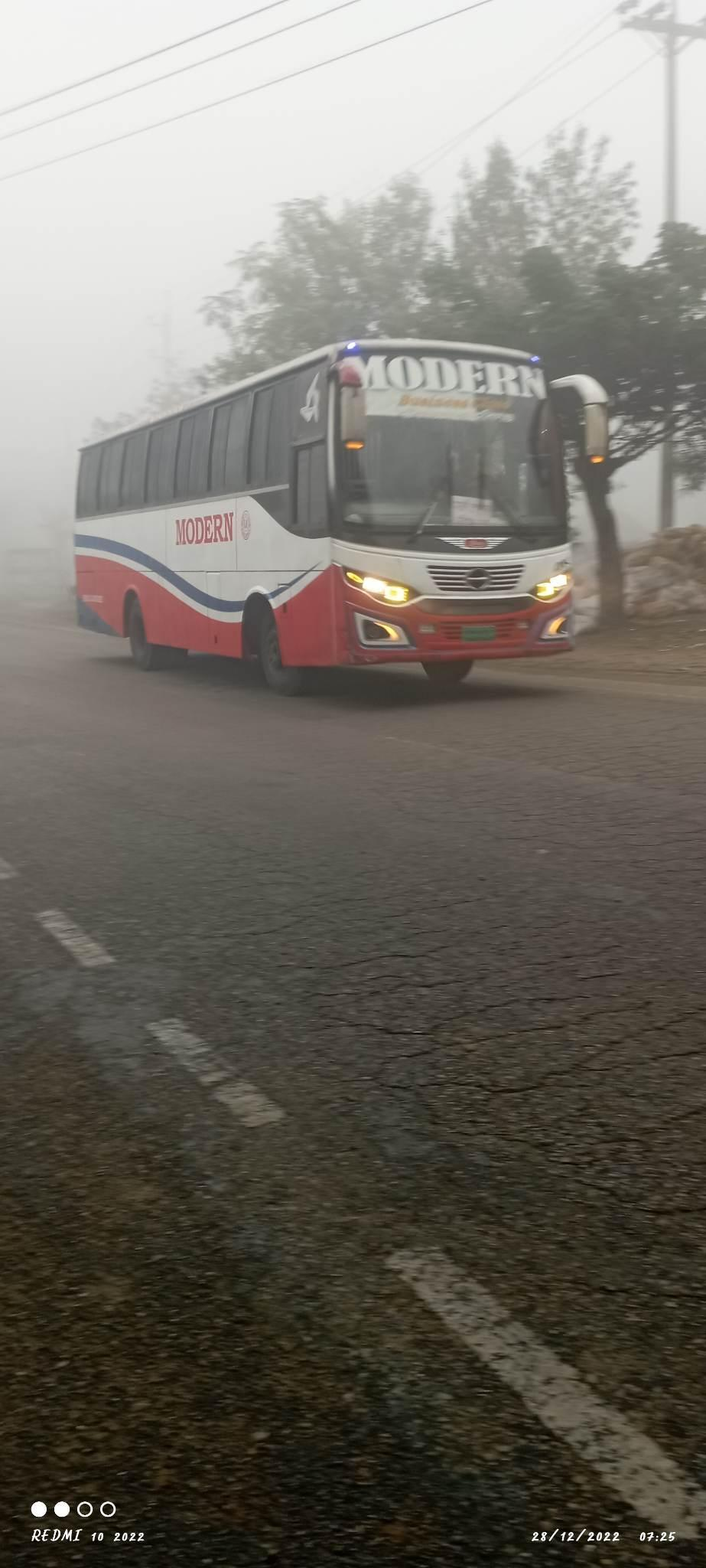Bus: (68, 323, 577, 703)
